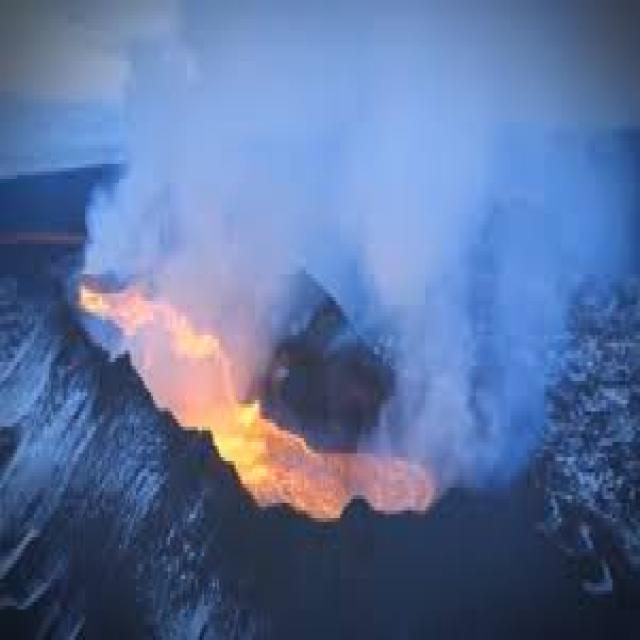explosion: (94, 5, 625, 598)
